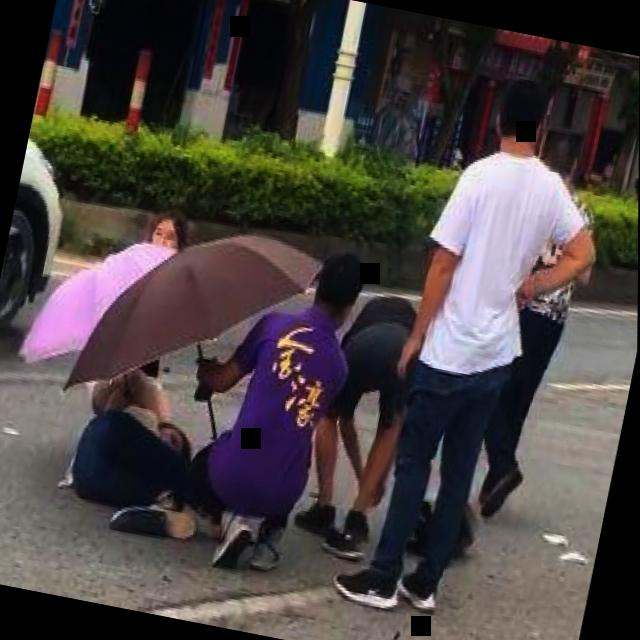Fall-Detected: (42, 340, 229, 553)
